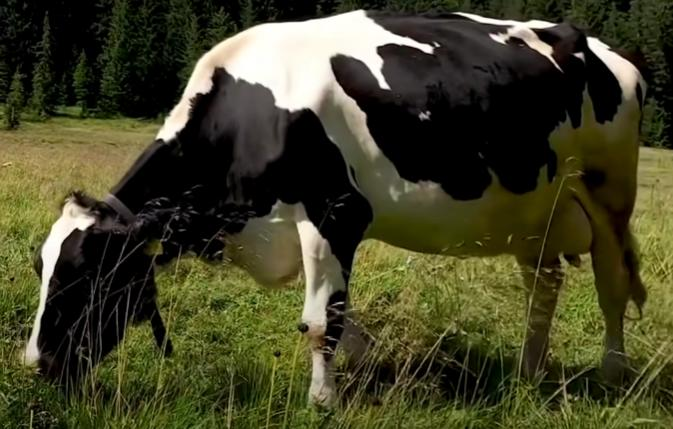cow: (22, 9, 650, 412)
